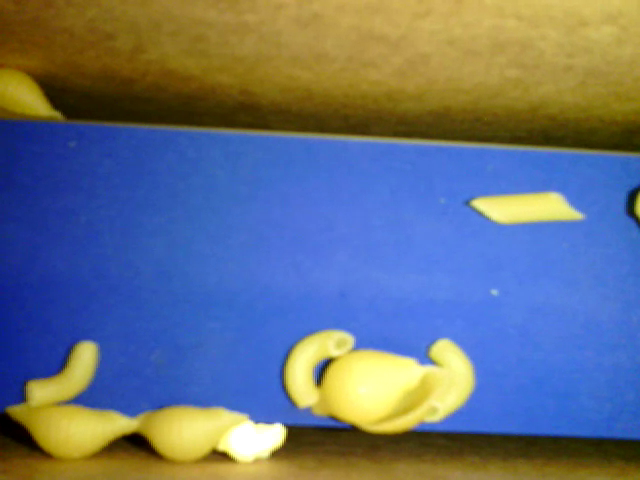elbow: (282, 327, 357, 409), (25, 337, 100, 408), (423, 337, 475, 421)
penne: (468, 188, 587, 228)
shell: (303, 342, 421, 419), (335, 369, 469, 436), (6, 400, 136, 462), (133, 403, 255, 462), (1, 63, 63, 126)
